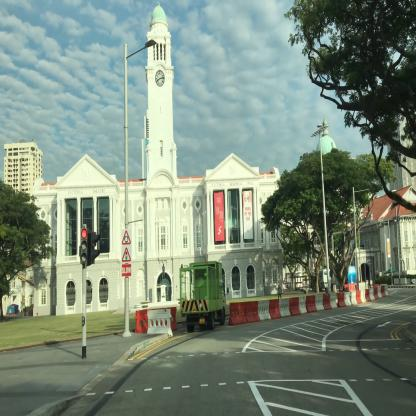red_traffic_light: (81, 230, 86, 262)
